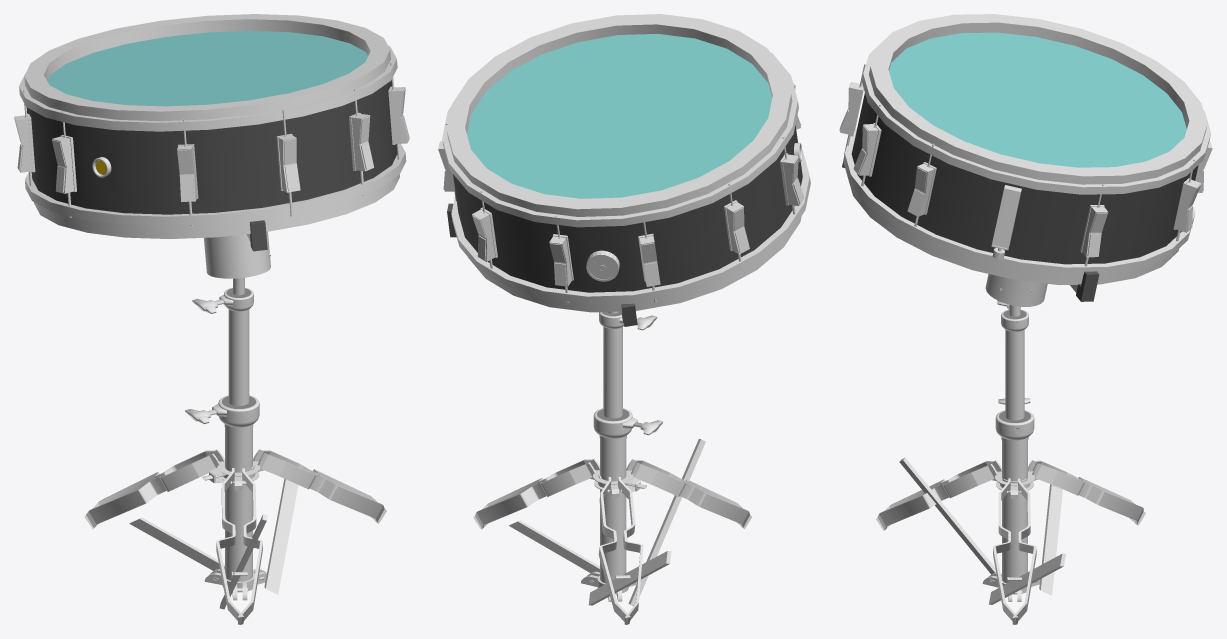
The model's file is snare.fbx.
3 renders of one model, left to right at view 1: azimuth 30°, elevation 25°; view 2: azimuth 150°, elevation 25°; view 3: azimuth 270°, elevation 25°, orthographic. The views are drawn at different scales.
Visible parts, largest first — view 1: Component#11_001, Cymabl Stand_001, Group_010, Group_005, Group_030, Group_017, Group_013, Group_014, Group_009, Group_006, Group_024; view 2: Component#11_001, Cymabl Stand_001, Group_006, Group_013, Group_024, Group_017, Group_030, Group_009, Group_010, Group_005, Group_014; view 3: Component#11_001, Cymabl Stand_001, Group_014, Group_009, Group_017, Group_024, Group_030, Group_006, Group_005, Group_013.
Boxes of the visible parts, x1,y1,x2,y2 form: Component#11_001: (14,14,409,278); Cymabl Stand_001: (202,278,260,592); Group_010: (86,453,220,527); Group_005: (257,453,384,522); Group_030: (264,479,298,594); Group_017: (129,517,224,570); Group_013: (216,468,244,624); Group_014: (237,468,262,624); Group_009: (84,449,224,528); Group_006: (253,449,386,523); Group_024: (219,514,267,609); Component#11_001: (438,14,810,326); Cymabl Stand_001: (593,311,646,594); Group_006: (475,462,595,528); Group_013: (631,462,749,527); Group_024: (628,439,705,605); Group_017: (588,551,671,605); Group_030: (509,520,599,572); Group_009: (598,477,630,624); Group_010: (618,477,643,624); Group_005: (473,458,599,529); Group_014: (626,459,751,528); Component#11_001: (839,14,1212,306); Cymabl Stand_001: (995,305,1035,594); Group_014: (877,464,997,529); Group_009: (1032,463,1143,524); Group_017: (1039,484,1062,595); Group_024: (899,457,995,574); Group_030: (988,553,1065,604); Group_006: (1012,478,1036,624); Group_005: (993,478,1018,624); Group_013: (876,460,1001,530).
Bounding box in the file's own units: 2.34 × 3.72 × 2.38.
